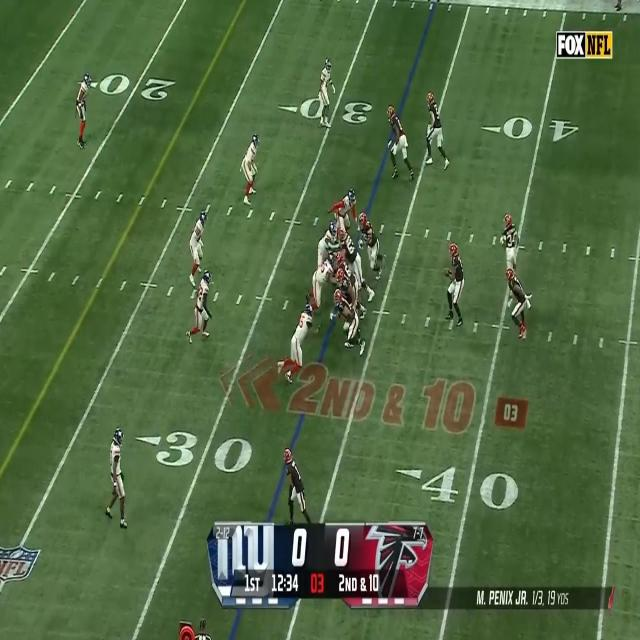Ball: (443, 266, 452, 280)
